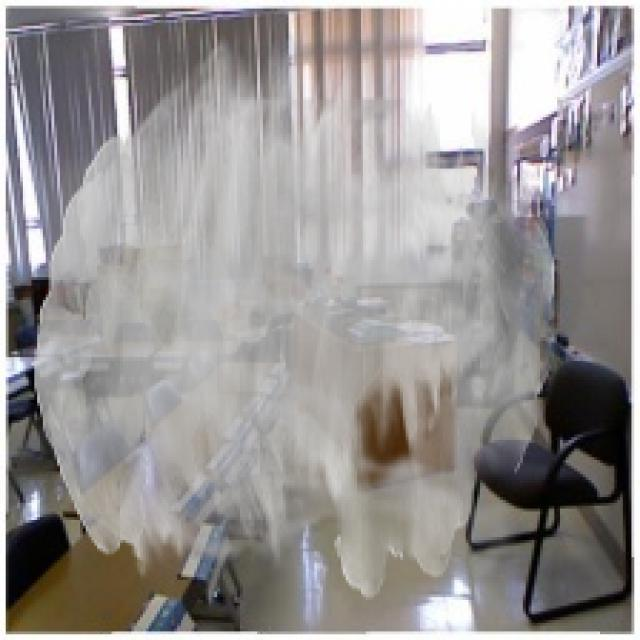Smoke: (34, 31, 557, 600)
